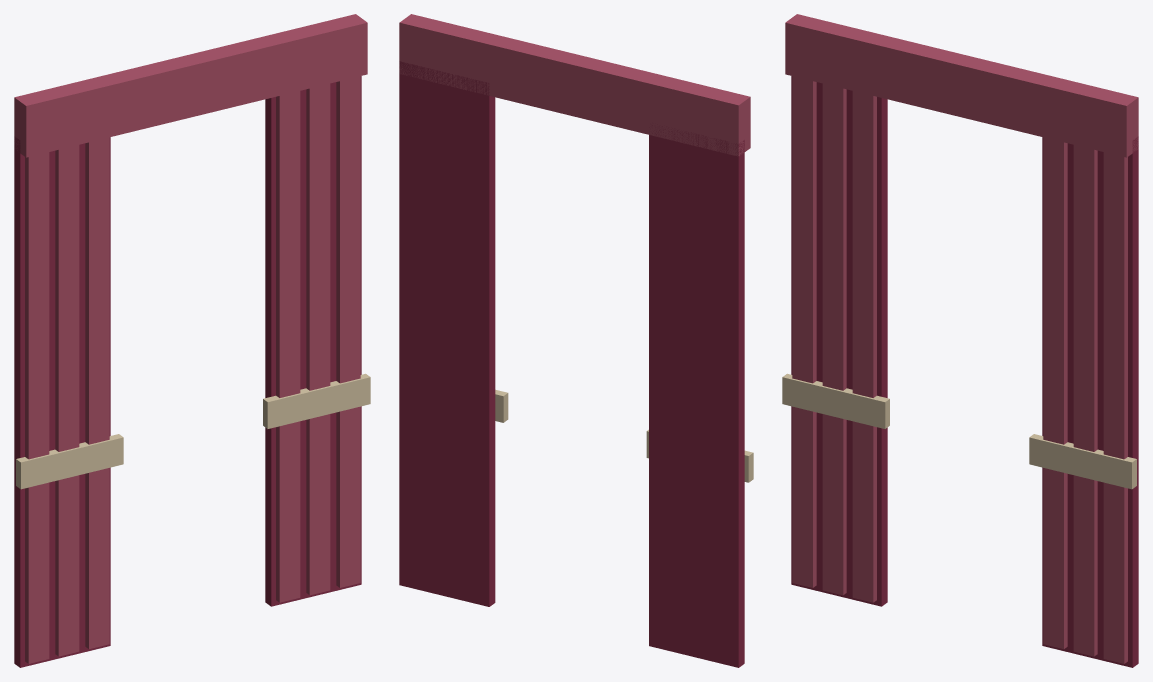
The model's file is Facade_Curtain.fbx.
The picture shows the model from 3 angles, left to right: view 1: azimuth 30°, elevation 25°; view 2: azimuth 150°, elevation 25°; view 3: azimuth 330°, elevation 25°; orthographic projection.
Visible parts, largest first — view 1: Facade_Curtain; view 2: Facade_Curtain; view 3: Facade_Curtain.
Part boxes in pixels (x1,y1,x2,y2): Facade_Curtain: [14, 14, 370, 667]; Facade_Curtain: [399, 14, 753, 667]; Facade_Curtain: [782, 14, 1138, 667].
Bounding box in the file's own units: 3.4 × 5.26 × 0.2.
Materials: 1 (1 with a texture image).
